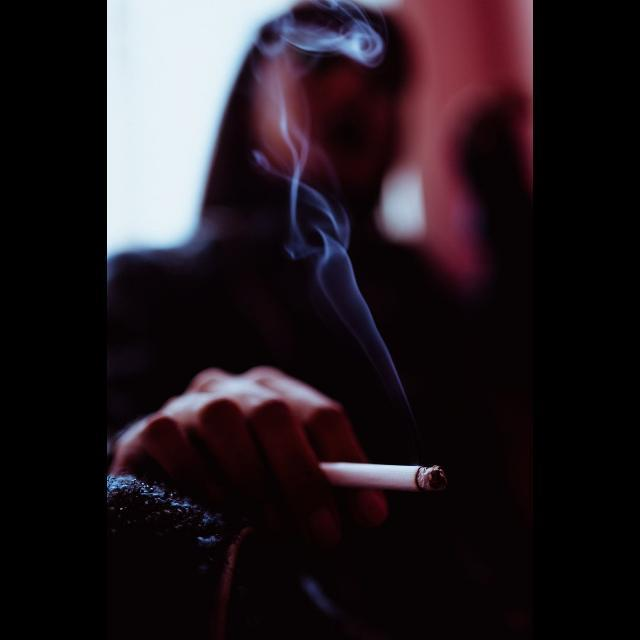rokok: (313, 456, 445, 500)
